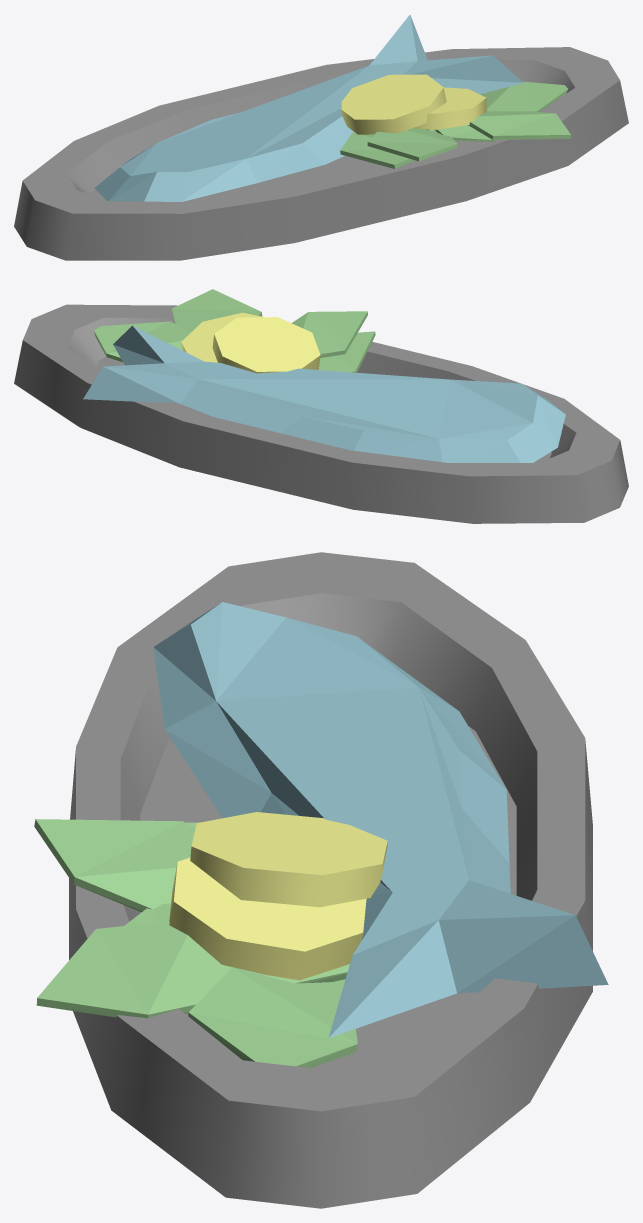
File: Teller_Fisch.FBX
3 renders of one model, top to bottom at view 1: azimuth 30°, elevation 25°; view 2: azimuth 150°, elevation 25°; view 3: azimuth 270°, elevation 25°, orthographic. The views are drawn at different scales.
Parts seen in each view (by area): view 1: Fisch; view 2: Fisch; view 3: Fisch.
Boxes of the visible parts, <box> form: Fisch: <box>14,14,628,260</box>; Fisch: <box>14,289,628,523</box>; Fisch: <box>34,552,608,1208</box>.
Size of the model in its own units: 22.68 by 2.83 by 9.57.
